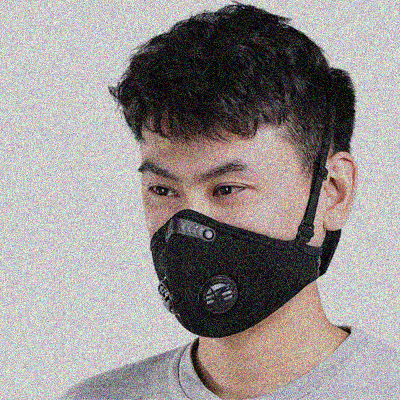with_mask: (138, 155, 325, 339)
